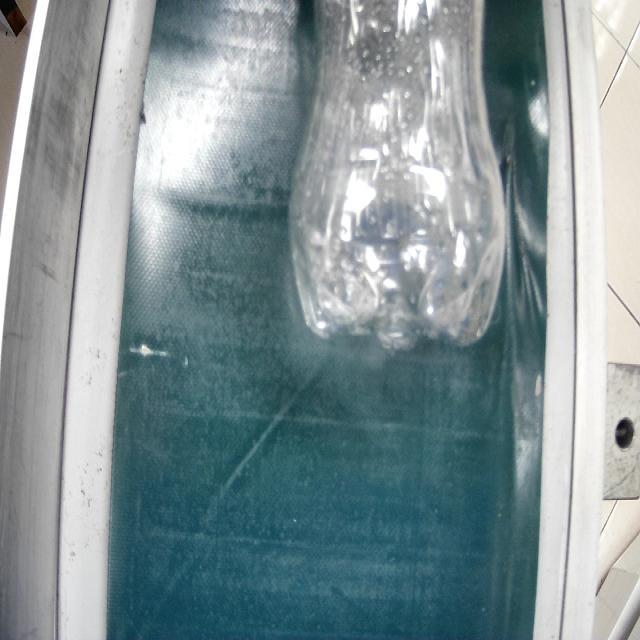Pet_Bottle: (293, 0, 506, 347)
